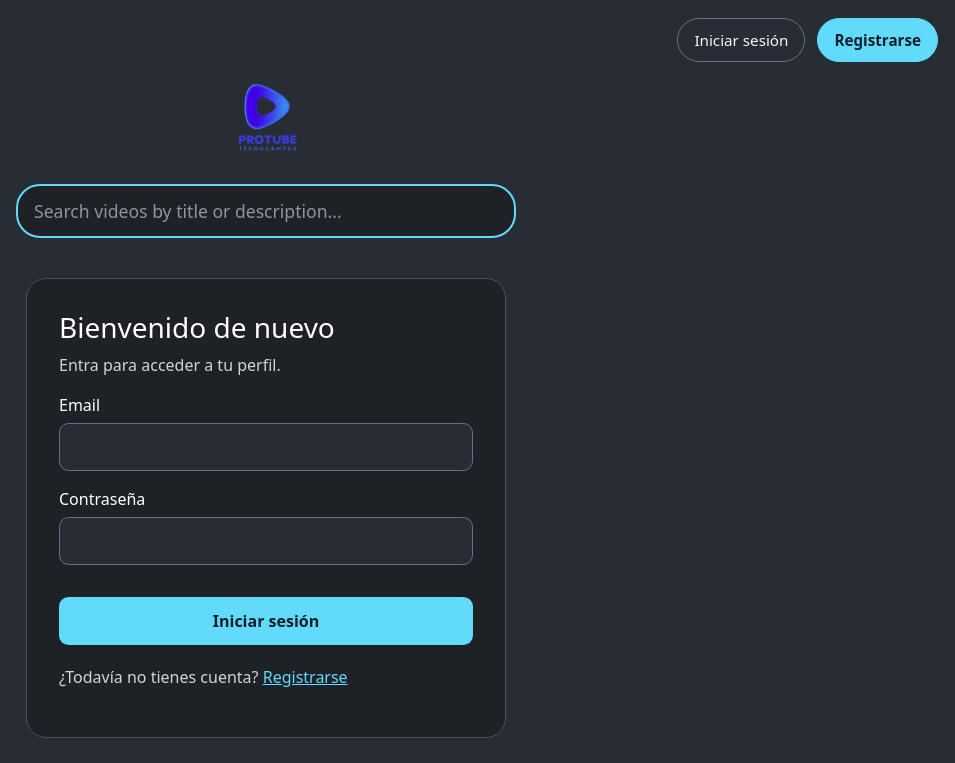
Scenario: Authentication navigation and pages › redirects visitors from the profile to login and returns them to their profile after login
This screenshot has width=955, height=763.
Expected: the heading "Bienvenido de nuevo" is shown, [59, 308, 335, 346]
In the field labelled "Email": (266, 447) [59, 423, 473, 471], type "user@example.test"
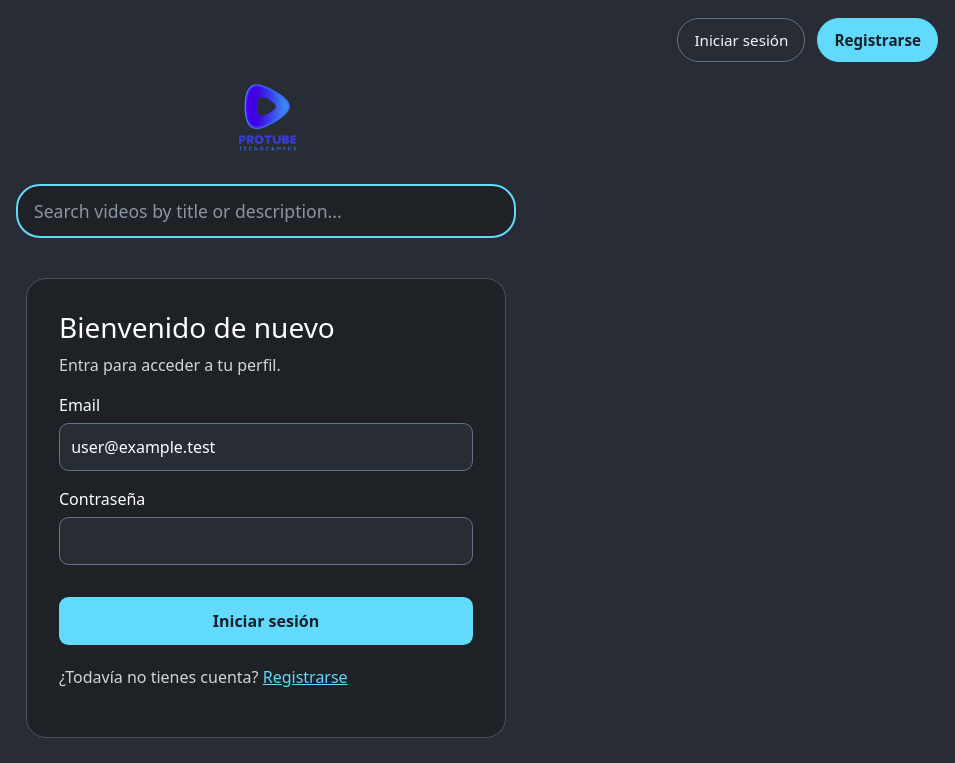
In the password field labelled "Contraseña": (266, 541) [59, 516, 473, 565], type "password123"
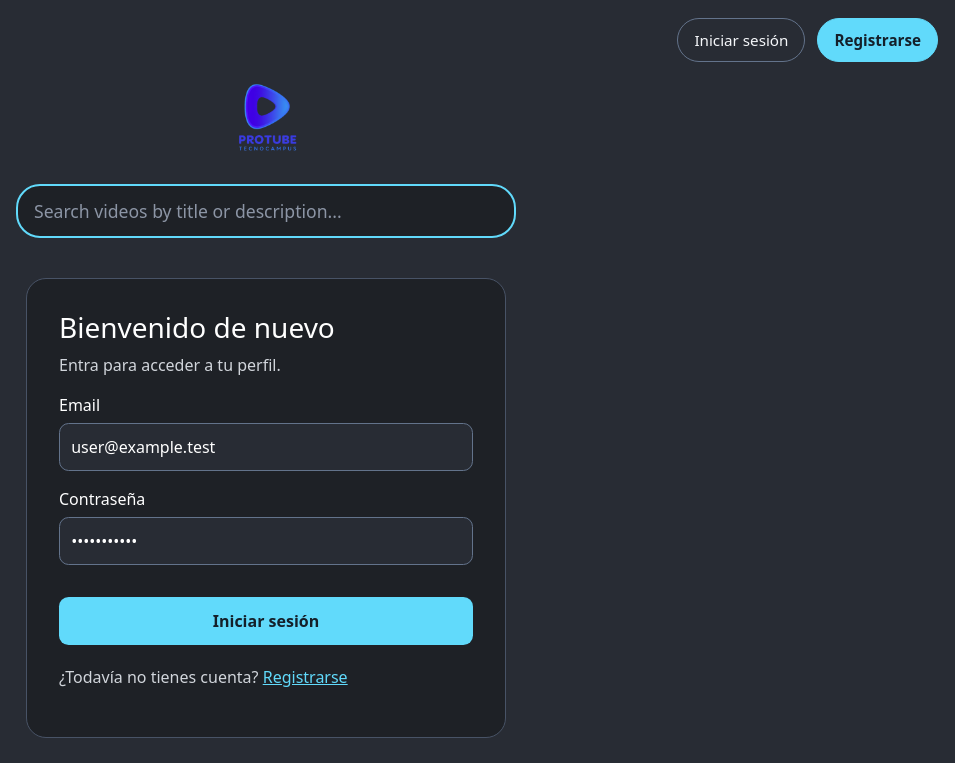
Click the button "Iniciar sesión": click(266, 621) [59, 597, 473, 645]
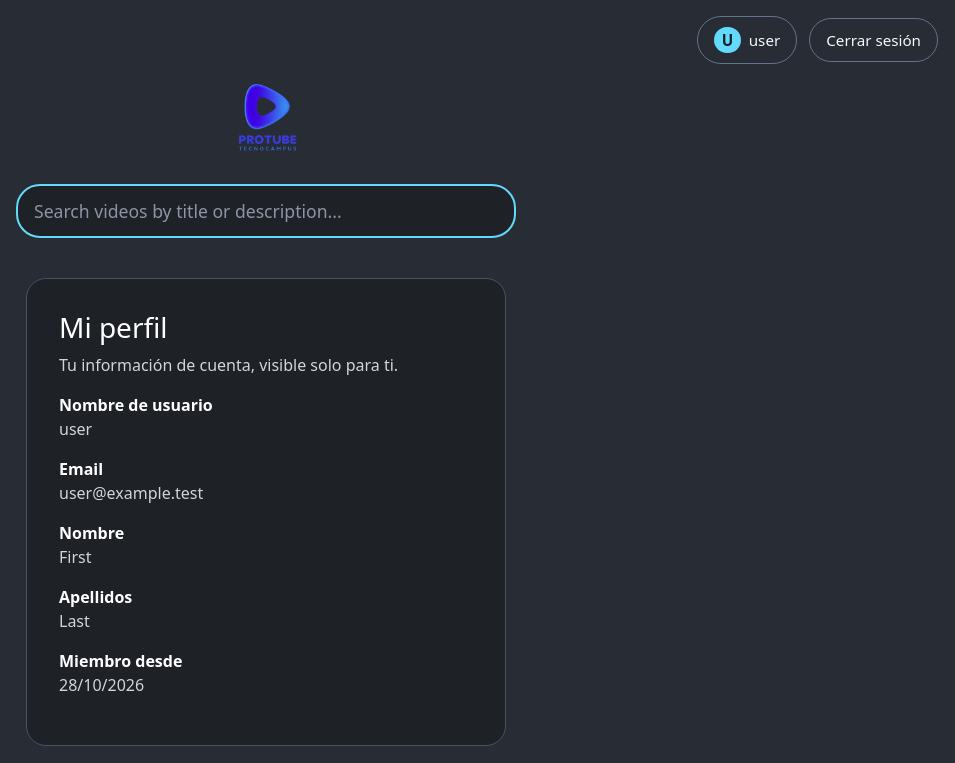
Expected: the heading "Mi perfil" is shown, [59, 308, 168, 346]
